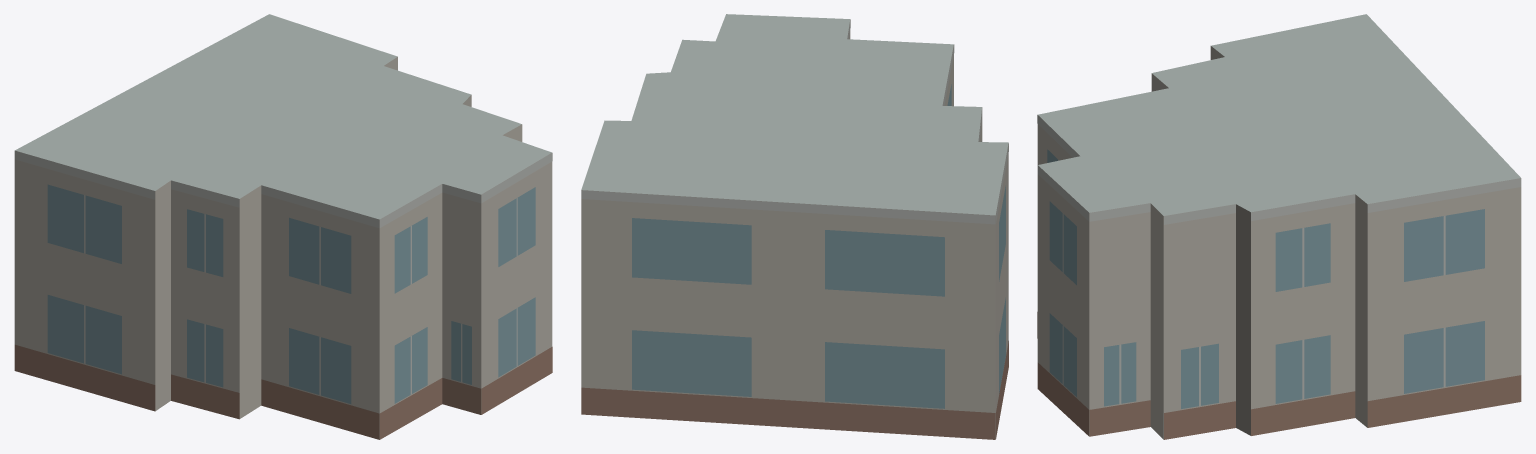
File: survey-upis-32692887.glb
3 renders of one model, left to right at view 1: azimuth 30°, elevation 25°; view 2: azimuth 150°, elevation 25°; view 3: azimuth 270°, elevation 25°, orthographic.
Parts seen in each view (by area): view 1: survey-upis-32692887.tmp; view 2: survey-upis-32692887.tmp; view 3: survey-upis-32692887.tmp.
Part boxes in pixels (x1,y1,x2,y2): survey-upis-32692887.tmp: (14,14,552,439); survey-upis-32692887.tmp: (581,14,1008,439); survey-upis-32692887.tmp: (1037,14,1521,439).
Bounding box in the file's own units: 11.82 × 6.1 × 11.96.
